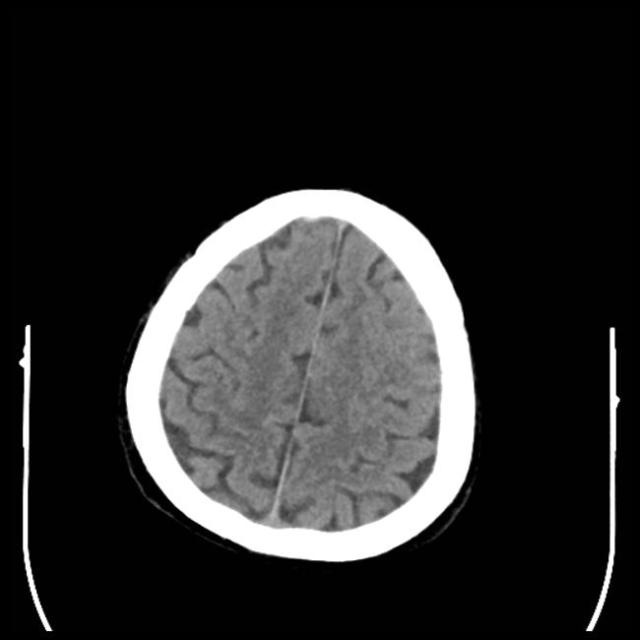lesion: (116, 182, 484, 567)
